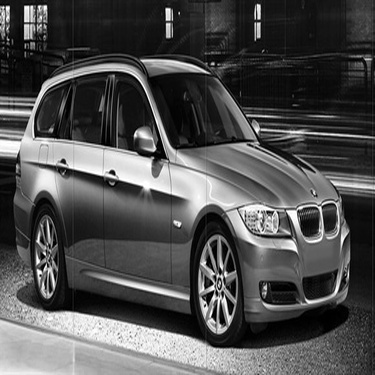car: (11, 43, 358, 352)
